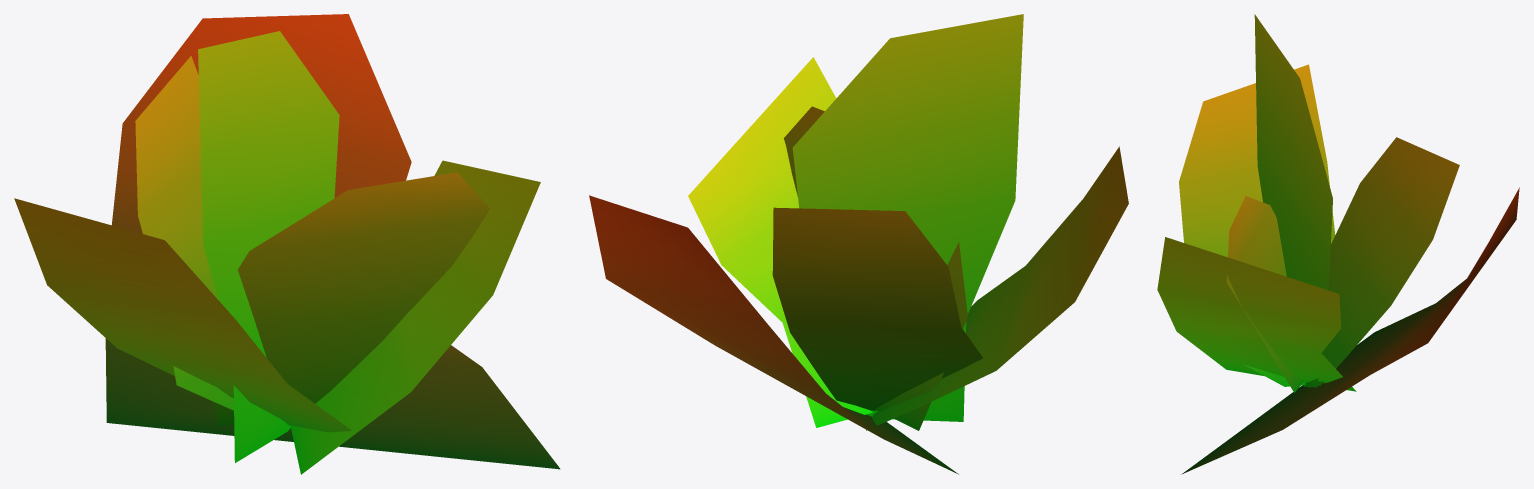
Rendered from Seaweed_LOD0_Var9_sdpjN.fbx.
3 views of the same model, side by side, from view 1: azimuth 30°, elevation 25°; view 2: azimuth 150°, elevation 25°; view 3: azimuth 270°, elevation 25° (orthographic). The views are drawn at different scales.
Visible parts, largest first — view 1: _f347_Var9_LOD0; view 2: _f347_Var9_LOD0; view 3: _f347_Var9_LOD0.
Boxes of the visible parts, x1,y1,x2,y2 form: _f347_Var9_LOD0: [14, 14, 560, 474]; _f347_Var9_LOD0: [589, 14, 1128, 474]; _f347_Var9_LOD0: [1157, 14, 1519, 474].
Size of the model in its own units: 12.75 by 11.77 by 11.16.
